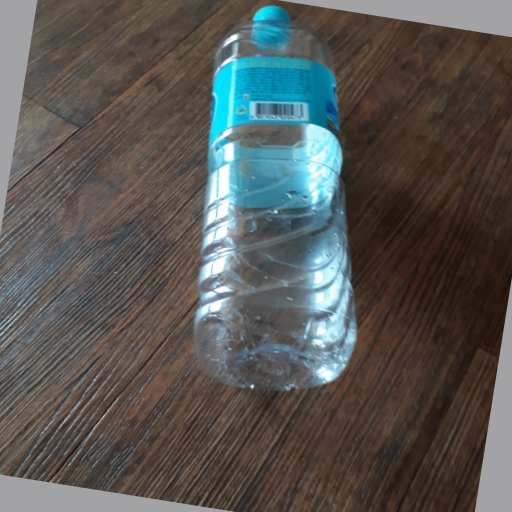Plastic_0: (198, 6, 359, 388)
